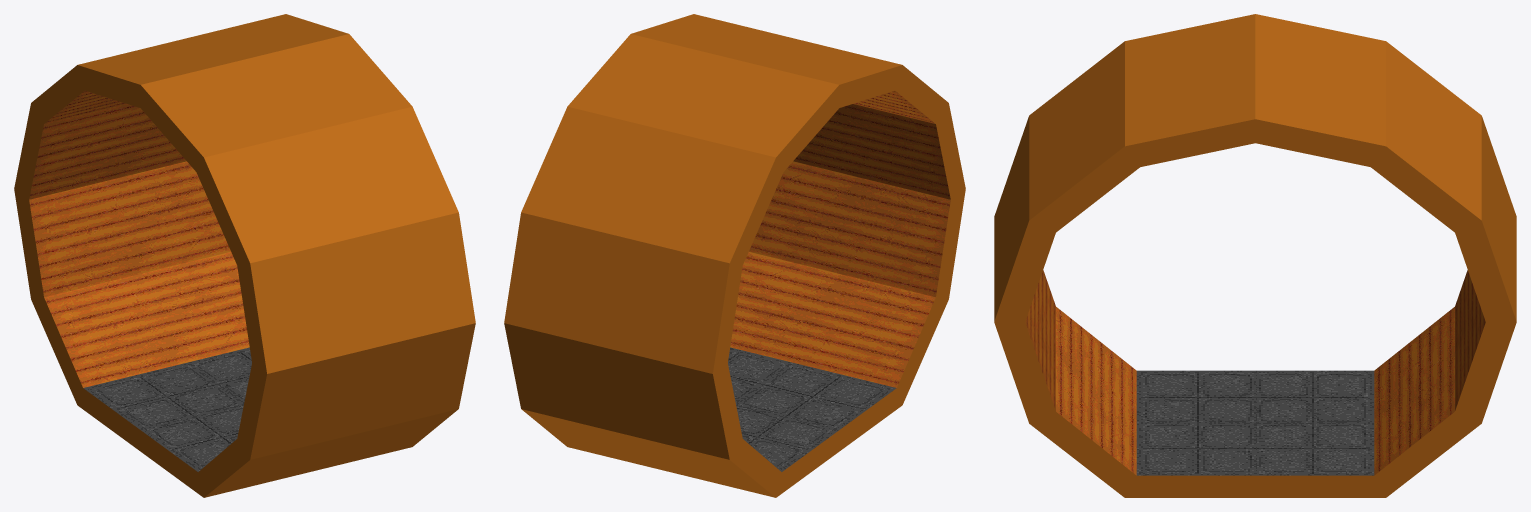
Rendered from Foam_Cylinder_Hallway-col.glb.
3 renders of one model, left to right at view 1: azimuth 30°, elevation 25°; view 2: azimuth 150°, elevation 25°; view 3: azimuth 270°, elevation 25°, orthographic. The views are drawn at different scales.
Visible parts, largest first — view 1: Foam_Cylinder_Hallway-col; view 2: Foam_Cylinder_Hallway-col; view 3: Foam_Cylinder_Hallway-col.
Boxes of the visible parts, x1,y1,x2,y2 form: Foam_Cylinder_Hallway-col: (14,14,475,497); Foam_Cylinder_Hallway-col: (504,14,965,497); Foam_Cylinder_Hallway-col: (994,14,1516,497).
Bounding box in the file's own units: 2 × 3.36 × 4.2.
1 material, 1 textured.
